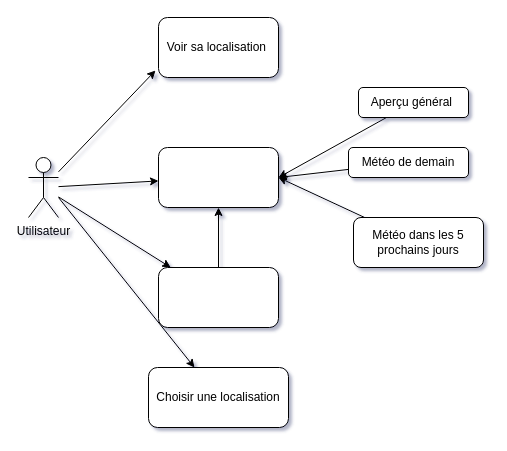
This 507x451 diagram has some shape labels left out. Here are the shapes that lost their labels. From the top down, the box of each, then its label:
(158, 146, 278, 208): Voir le météo
(158, 266, 278, 328): Chart de temperature
